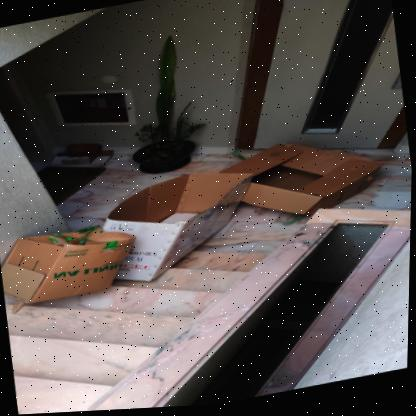Paper: (102, 175, 255, 282), (220, 145, 385, 220), (2, 228, 136, 314), (51, 144, 114, 165)
